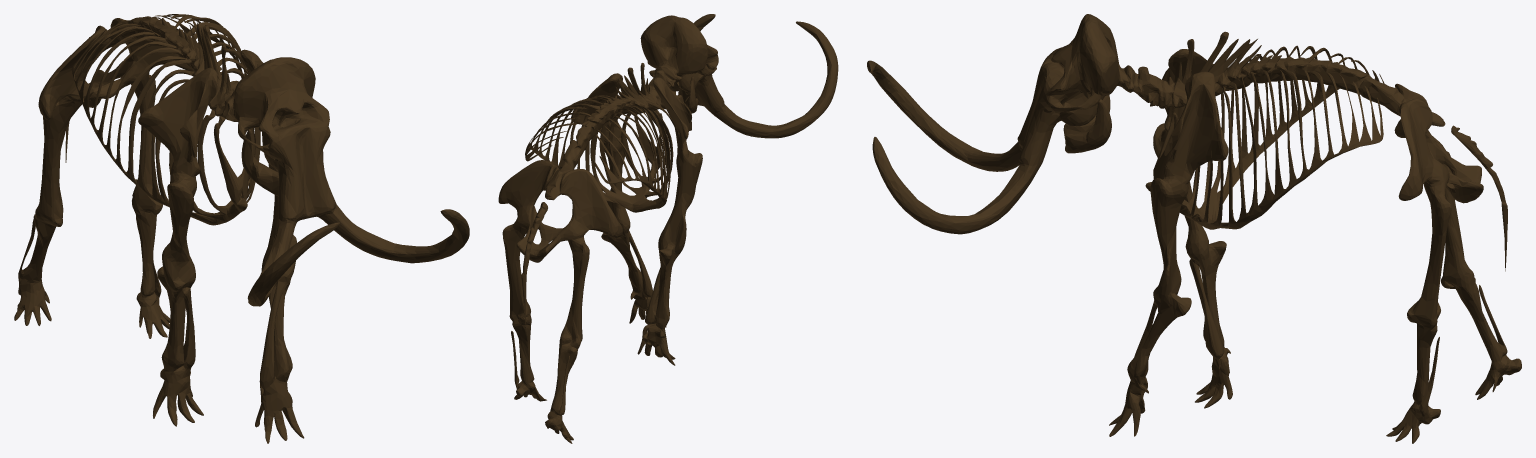
3 views of the same model, side by side, from view 1: azimuth 30°, elevation 25°; view 2: azimuth 150°, elevation 25°; view 3: azimuth 270°, elevation 25° (orthographic). The views are drawn at different scales.
Visible parts, largest first — view 1: Woolly_Mammoth_Scan; view 2: Woolly_Mammoth_Scan; view 3: Woolly_Mammoth_Scan.
Part boxes in pixels (<box>): Woolly_Mammoth_Scan: <box>14,14,469,443</box>; Woolly_Mammoth_Scan: <box>498,14,838,443</box>; Woolly_Mammoth_Scan: <box>867,14,1521,443</box>.
Size of the model in its own units: 0.6338 by 1.14 by 1.69.
